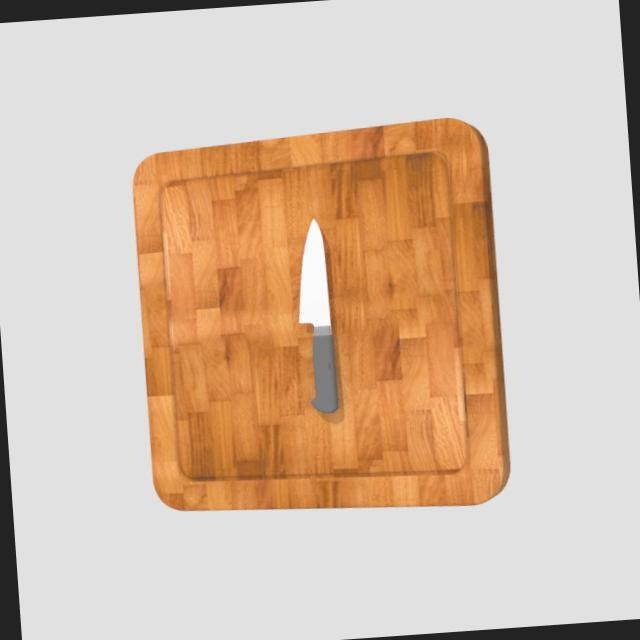knife: (307, 333, 338, 413)
